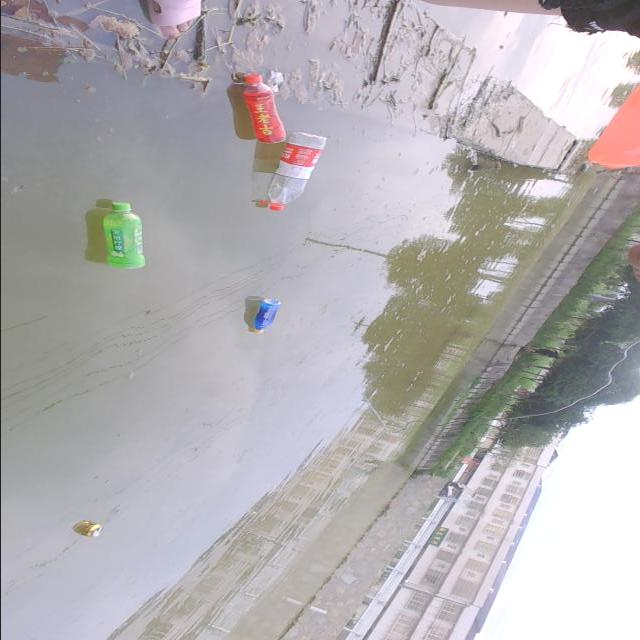bottle: (248, 125, 344, 232), (93, 186, 159, 278), (225, 70, 288, 150), (240, 286, 299, 341)
